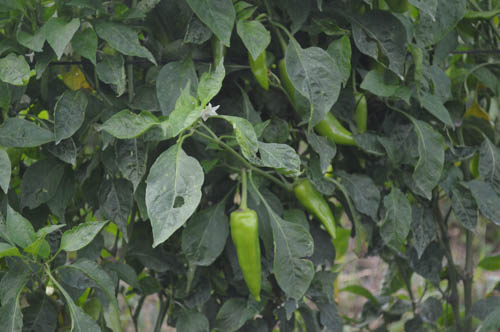ChiliPepper: (279, 59, 354, 149), (229, 209, 264, 301), (292, 180, 339, 241), (350, 96, 369, 134)
